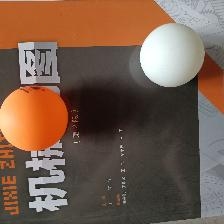WhiteBall: (139, 22, 204, 87)
YellowBall: (0, 84, 67, 151)
